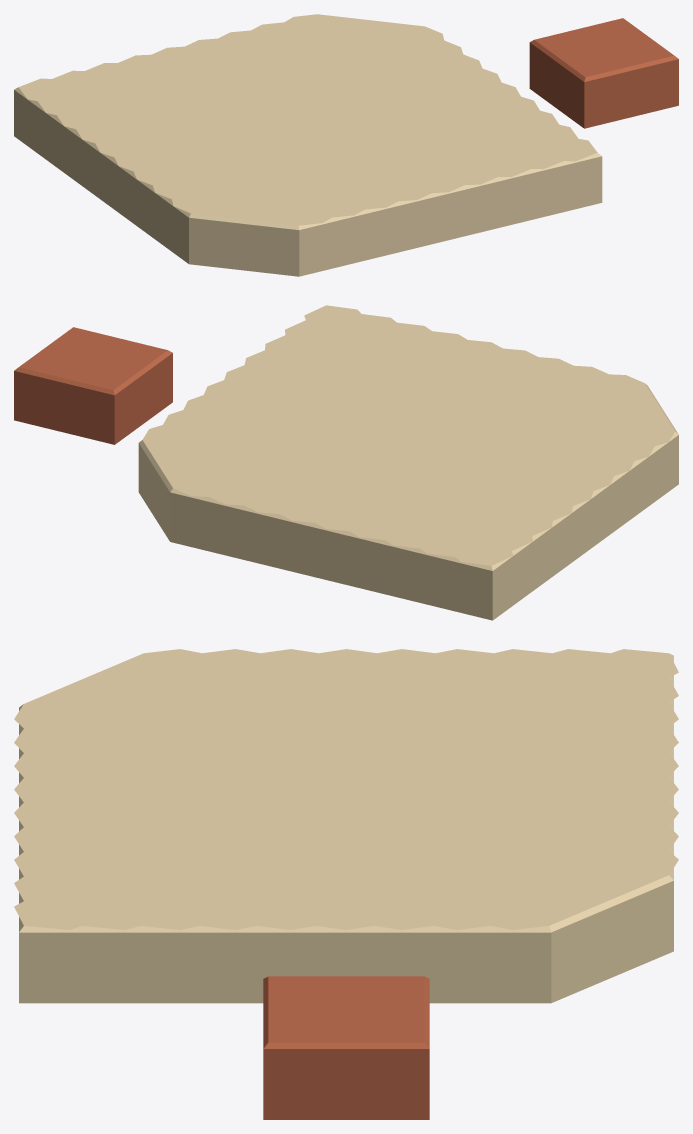
Rendered from mahsulot.glb.
3 renders of one model, top to bottom at view 1: azimuth 30°, elevation 25°; view 2: azimuth 150°, elevation 25°; view 3: azimuth 270°, elevation 25°, orthographic. The views are drawn at different scales.
Parts seen in each view (by area): view 1: mahsulot_A, mahsulot_B; view 2: mahsulot_A, mahsulot_B; view 3: mahsulot_A, mahsulot_B.
Part boxes in pixels (x1=…): mahsulot_A: x1=14, y1=14, x2=602, y2=276; mahsulot_B: x1=529, y1=18, x2=678, y2=128; mahsulot_A: x1=138, y1=305, x2=678, y2=620; mahsulot_B: x1=14, y1=327, x2=172, y2=444; mahsulot_A: x1=14, y1=649, x2=678, y2=1003; mahsulot_B: x1=263, y1=976, x2=429, y2=1119.
Size of the model in its own units: 0.2815 by 0.025 by 0.2.
